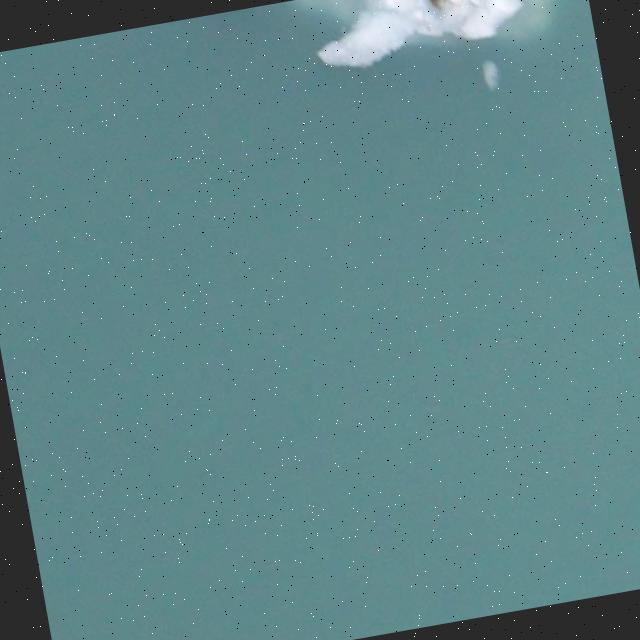seal: (427, 0, 450, 11)
